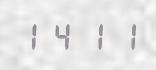four: (48, 20, 77, 50)
one: (18, 20, 47, 50), (78, 20, 107, 50), (108, 20, 137, 50)
